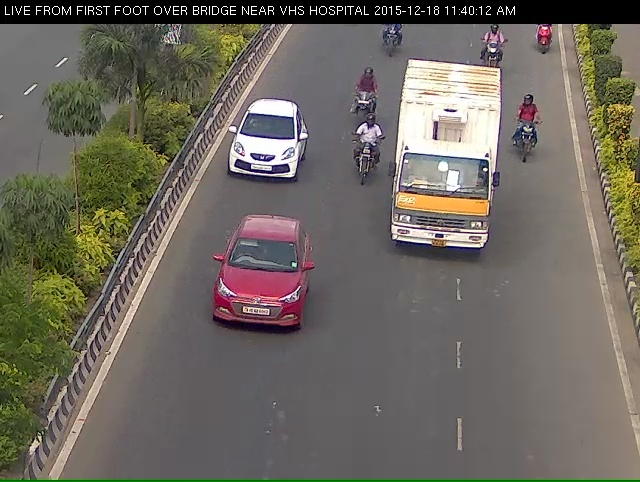Bus: (396, 64, 500, 284)
Car: (214, 231, 313, 366), (219, 107, 307, 206)
Person: (516, 106, 547, 178), (346, 79, 378, 138), (476, 32, 513, 81), (351, 131, 374, 196), (533, 20, 558, 64)
